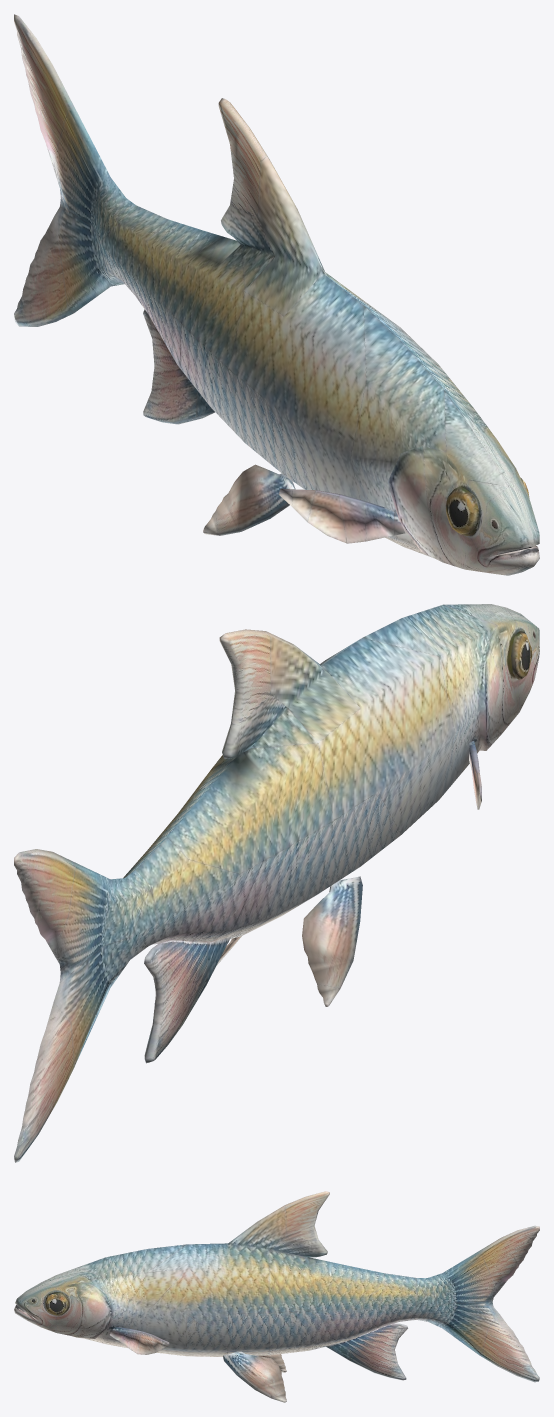
File: 鲮鱼之影.glb
3 renders of one model, top to bottom at view 1: azimuth 30°, elevation 25°; view 2: azimuth 150°, elevation 25°; view 3: azimuth 270°, elevation 25°, orthographic. The views are drawn at different scales.
Visible parts, largest first — view 1: tripo_node_c17d546a-c5b6-4512-ade7-5eb2a66f5170; view 2: tripo_node_c17d546a-c5b6-4512-ade7-5eb2a66f5170; view 3: tripo_node_c17d546a-c5b6-4512-ade7-5eb2a66f5170.
Boxes of the visible parts, left/top/right/bottom form: tripo_node_c17d546a-c5b6-4512-ade7-5eb2a66f5170: left=14, top=14, right=539, bottom=575; tripo_node_c17d546a-c5b6-4512-ade7-5eb2a66f5170: left=14, top=604, right=539, bottom=1162; tripo_node_c17d546a-c5b6-4512-ade7-5eb2a66f5170: left=14, top=1191, right=539, bottom=1402.
Bounding box in the file's own units: 0.2246 × 0.4121 × 0.998.
1 material, 1 textured.
